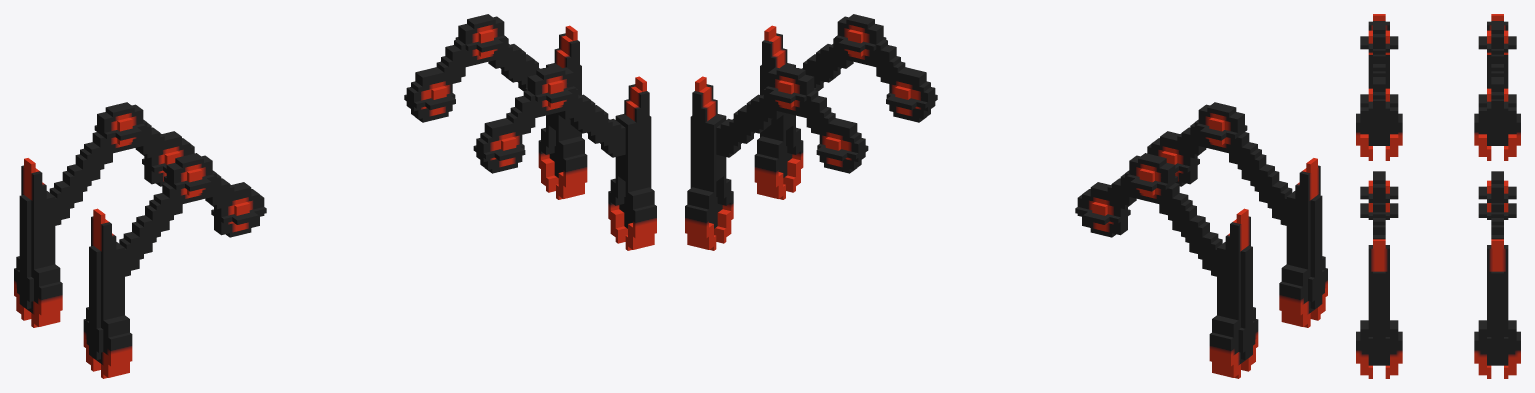
The model's file is Enemy-6-DogLegsHard.fbx.
The picture shows the model from 3 angles, left to right: view 1: azimuth 30°, elevation 25°; view 2: azimuth 150°, elevation 25°; view 3: azimuth 270°, elevation 25°; orthographic projection. The views are drawn at different scales.
Parts seen in each view (by area): view 1: DogLegsHard; view 2: DogLegsHard; view 3: DogLegsHard.
Part boxes in pixels (left/top/right/bottom): DogLegsHard: left=14, top=14, right=656, bottom=378; DogLegsHard: left=685, top=14, right=1327, bottom=378; DogLegsHard: left=1356, top=14, right=1520, bottom=378.
Bounding box in the file's own units: 129 × 43 × 39.
Materials: 1 (1 with a texture image).
